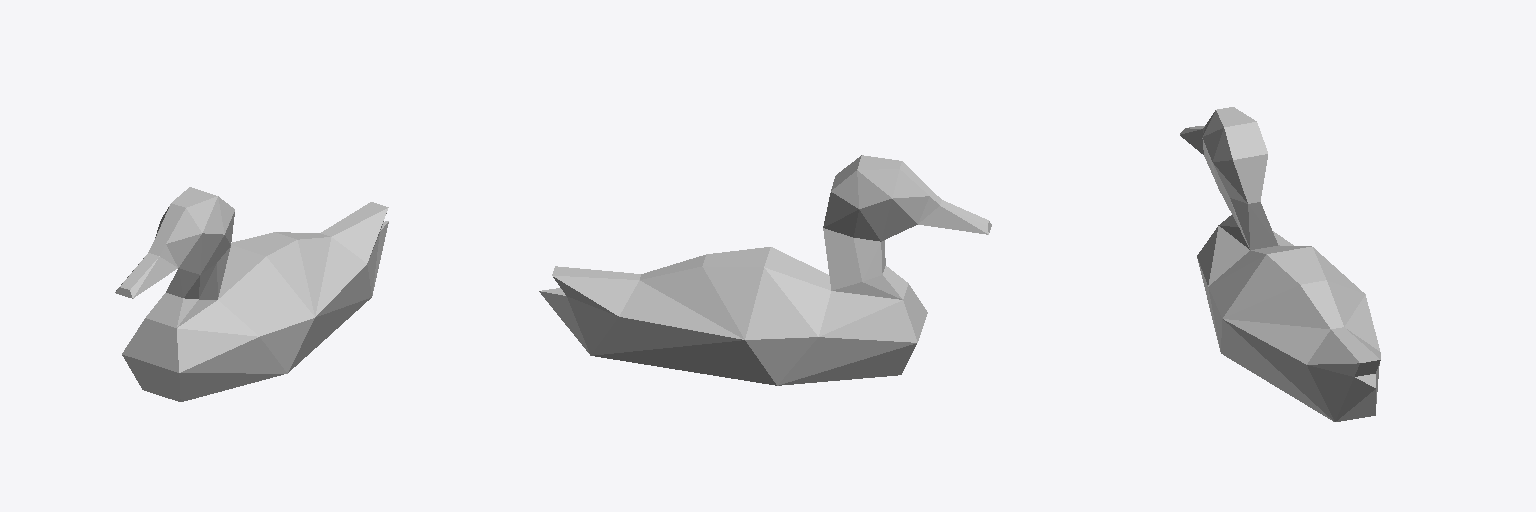
The model's file is pekin2.obj.
The picture shows the model from 3 angles: view 1: azimuth 30°, elevation 25°; view 2: azimuth 150°, elevation 25°; view 3: azimuth 270°, elevation 25°; orthographic projection.
Visible parts, largest first — view 1: Plane; view 2: Plane; view 3: Plane.
Boxes of the visible parts, x1=… form: Plane: x1=115, y1=187, x2=388, y2=401; Plane: x1=539, y1=155, x2=991, y2=385; Plane: x1=1180, y1=107, x2=1380, y2=421.
Size of the model in its own units: 7.74 by 3.93 by 3.73.